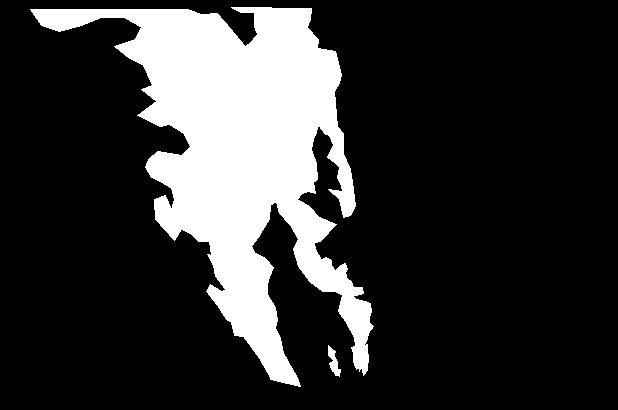Fire: (282, 71, 355, 217), (217, 279, 302, 390), (174, 165, 247, 238), (319, 341, 371, 376)
